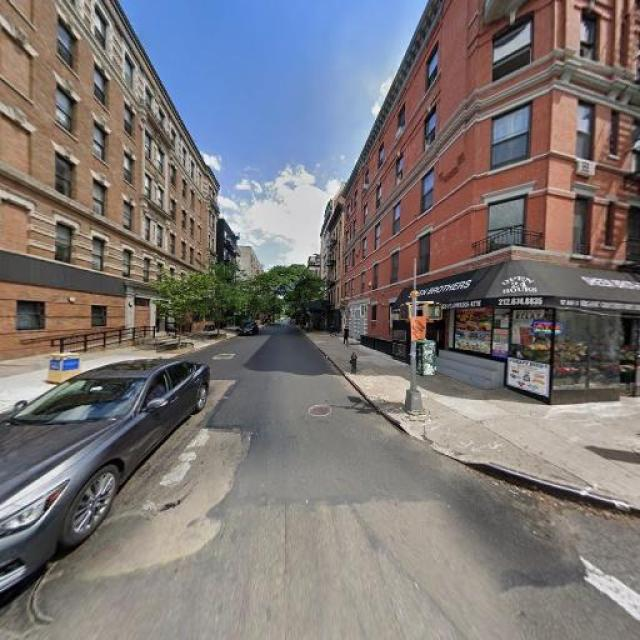Building: (343, 1, 640, 388), (1, 1, 217, 363)
